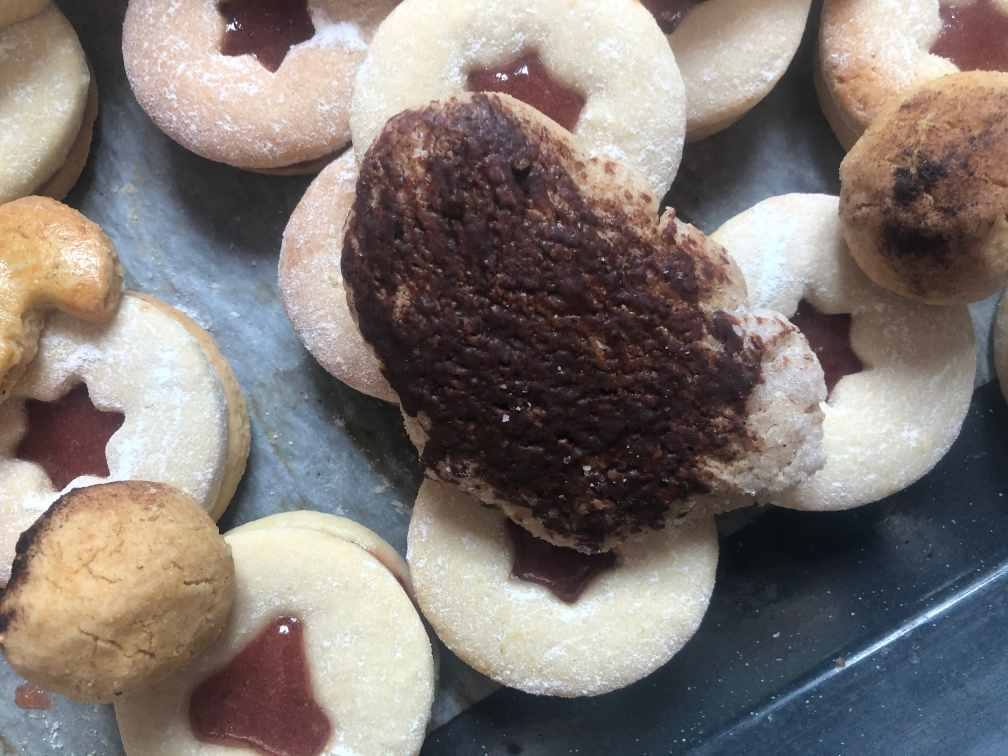christmas shortbread with jam: (726, 192, 968, 513), (353, 1, 682, 204), (405, 497, 724, 700), (22, 288, 251, 520), (228, 508, 441, 756), (122, 2, 376, 170), (813, 6, 1008, 145), (670, 3, 817, 145), (4, 1, 96, 209)
snowball: (10, 480, 234, 698), (842, 69, 1008, 316)
weird #1: (339, 92, 829, 549)
